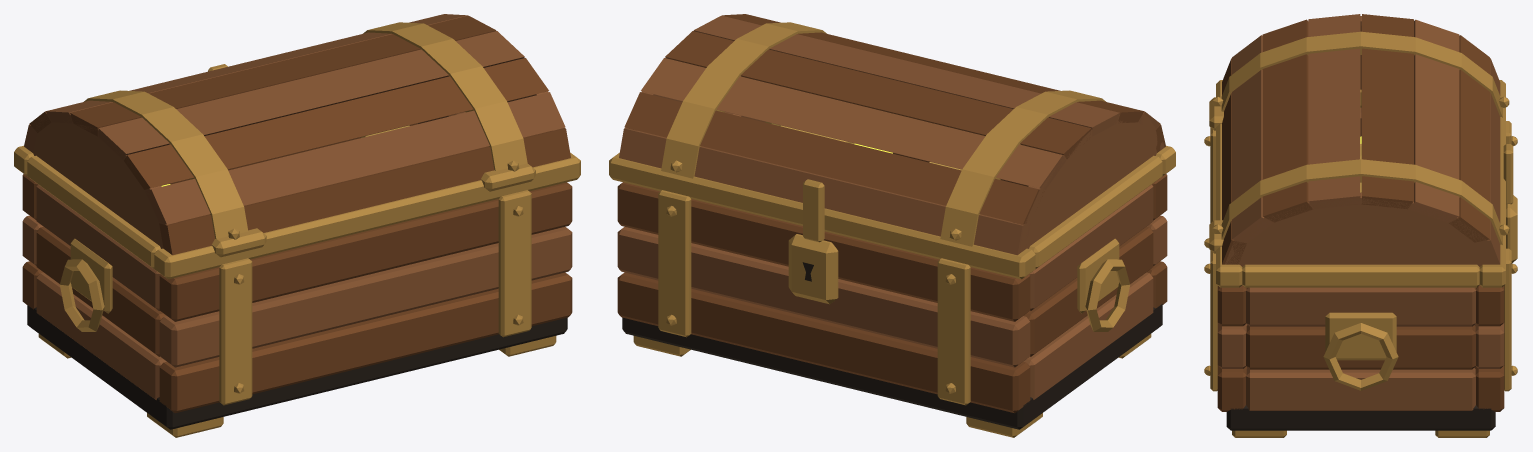
The model's file is chest.glb.
3 renders of one model, left to right at view 1: azimuth 30°, elevation 25°; view 2: azimuth 150°, elevation 25°; view 3: azimuth 270°, elevation 25°, orthographic. The views are drawn at different scales.
Parts seen in each view (by area): view 1: chest_body, chest_lid; view 2: chest_body, chest_lid; view 3: chest_lid, chest_body.
Part boxes in pixels (box(x1,y1,x2,y2)): chest_body: box(14, 111, 580, 437); chest_lid: box(24, 14, 570, 257); chest_body: box(609, 111, 1175, 437); chest_lid: box(619, 14, 1165, 255); chest_lid: box(1209, 14, 1513, 266); chest_body: box(1204, 80, 1517, 437).
Size of the model in its own units: 1.74 by 1 by 1.14.
